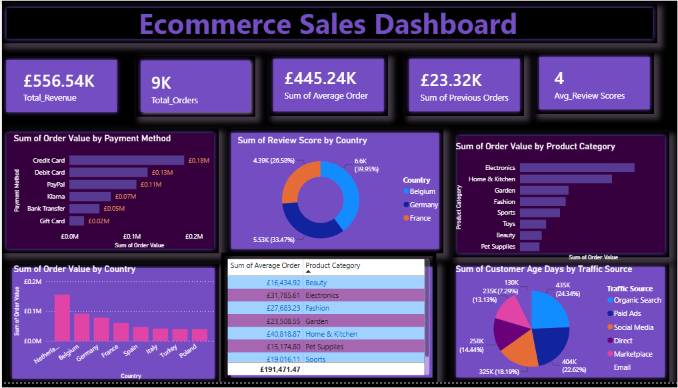

This screenshot's page, from the dashboard's own definition file:
{"tool":"powerbi","page":{"name":"Page 1","canvas":[1280,720],"ordinal":0},"visuals":[{"type":"shape","box":[0,104.2,225,114.6],"z":0},{"type":"shape","box":[253,103.8,224.7,115.2],"z":2000},{"type":"cardVisual","fields":{"Data":["S_Ecommerce1.Total_Revenue"]},"box":[0,101.9,217.1,117.1],"z":3000},{"type":"shape","box":[504.1,101.9,224.7,115.2],"z":4000},{"type":"shape","box":[760.8,101.9,224.7,115.2],"z":5000},{"type":"shape","box":[0,6.2,1237.5,75],"z":6000},{"type":"shape","box":[1006.3,98.2,224.7,115.2],"z":7000},{"type":"cardVisual","fields":{"Data":["Sum(S_Ecommerce1.Average_Order)"]},"box":[504.1,98.2,236,115.2],"z":8000},{"type":"cardVisual","fields":{"Data":["Sum(S_Ecommerce1.Previous_Orders)"]},"box":[760.8,101.9,245.4,115.2],"z":9000},{"type":"cardVisual","fields":{"Data":["S_Ecommerce1.Average_Review Scores"]},"box":[1013.8,98.2,217.1,115.2],"z":10000},{"type":"shape","box":[0,241.7,408.3,235.4],"z":11000},{"type":"shape","box":[10.4,495.8,397.9,225],"z":12000},{"type":"shape","box":[425,241.7,408.3,235.4],"z":13000},{"type":"textbox","box":[252.1,0,760.4,81.2],"z":14000},{"type":"barChart","fields":{"Category":["S_Ecommerce1.Payment Method"],"Y":["Sum(S_Ecommerce1.Order Value)"]},"box":[17,249.2,396.5,222.8],"z":15000},{"type":"donutChart","fields":{"Category":["S_Ecommerce1.Country"],"Y":["Sum(S_Ecommerce1.Review Score)"]},"box":[439.9,253,398.3,224.7],"z":16000},{"type":"shape","box":[852.1,247.9,408.3,237.5],"z":17000},{"type":"shape","box":[424.8,494.6,396.5,224.7],"z":18000},{"type":"shape","box":[849.6,494.6,409.7,224.7],"z":19000},{"type":"tableEx","fields":{"Values":["Sum(S_Ecommerce1.Average Order)","S_Ecommerce1.Product Category"]},"box":[413.5,475.8,405.9,243.5],"z":20000},{"type":"clusteredBarChart","fields":{"Category":["S_Ecommerce1.Product Category"],"Y":["Sum(S_Ecommerce1.Order Value)"]},"box":[852.1,264.6,408.3,231.2],"z":21000},{"type":"pieChart","fields":{"Y":["Sum(S_Ecommerce1.Customer Age Days)"],"Category":["S_Ecommerce1.Traffic Source"]},"box":[851.4,496.5,407.8,224.7],"z":22000},{"type":"columnChart","fields":{"Category":["S_Ecommerce1.Country"],"Y":["Sum(S_Ecommerce1.Order Value)"]},"box":[17,496.5,390.8,222.8],"z":23000},{"type":"cardVisual","fields":{"Data":["S_Ecommerce1.Total_Orders"]},"box":[253,111.4,224.7,107.6],"z":23001}]}

Visuals, with their boxes in screenshot pixels (x1, y1, x2, y2), scaled from the page's 1280x720 canvas onto the 678x388 screenshot:
shape: Rect(0, 56, 119, 118)
shape: Rect(134, 56, 253, 118)
cardVisual - S_Ecommerce1.Total_Revenue: Rect(0, 55, 115, 118)
shape: Rect(267, 55, 386, 117)
shape: Rect(403, 55, 522, 117)
shape: Rect(0, 3, 655, 44)
shape: Rect(533, 53, 652, 115)
cardVisual - Sum(S_Ecommerce1.Average_Order): Rect(267, 53, 392, 115)
cardVisual - Sum(S_Ecommerce1.Previous_Orders): Rect(403, 55, 533, 117)
cardVisual - S_Ecommerce1.Average_Review Scores: Rect(537, 53, 652, 115)
shape: Rect(0, 130, 216, 257)
shape: Rect(6, 267, 216, 387)
shape: Rect(225, 130, 441, 257)
textbox: Rect(134, 0, 536, 44)
barChart - S_Ecommerce1.Payment Method x Sum(S_Ecommerce1.Order Value): Rect(9, 134, 219, 254)
donutChart - S_Ecommerce1.Country x Sum(S_Ecommerce1.Review Score): Rect(233, 136, 444, 257)
shape: Rect(451, 134, 668, 262)
shape: Rect(225, 267, 435, 387)
shape: Rect(450, 267, 667, 387)
tableEx - Sum(S_Ecommerce1.Average Order) x S_Ecommerce1.Product Category: Rect(219, 256, 434, 387)
clusteredBarChart - S_Ecommerce1.Product Category x Sum(S_Ecommerce1.Order Value): Rect(451, 143, 668, 267)
pieChart - Sum(S_Ecommerce1.Customer Age Days) x S_Ecommerce1.Traffic Source: Rect(451, 268, 667, 387)
columnChart - S_Ecommerce1.Country x Sum(S_Ecommerce1.Order Value): Rect(9, 268, 216, 387)
cardVisual - S_Ecommerce1.Total_Orders: Rect(134, 60, 253, 118)
